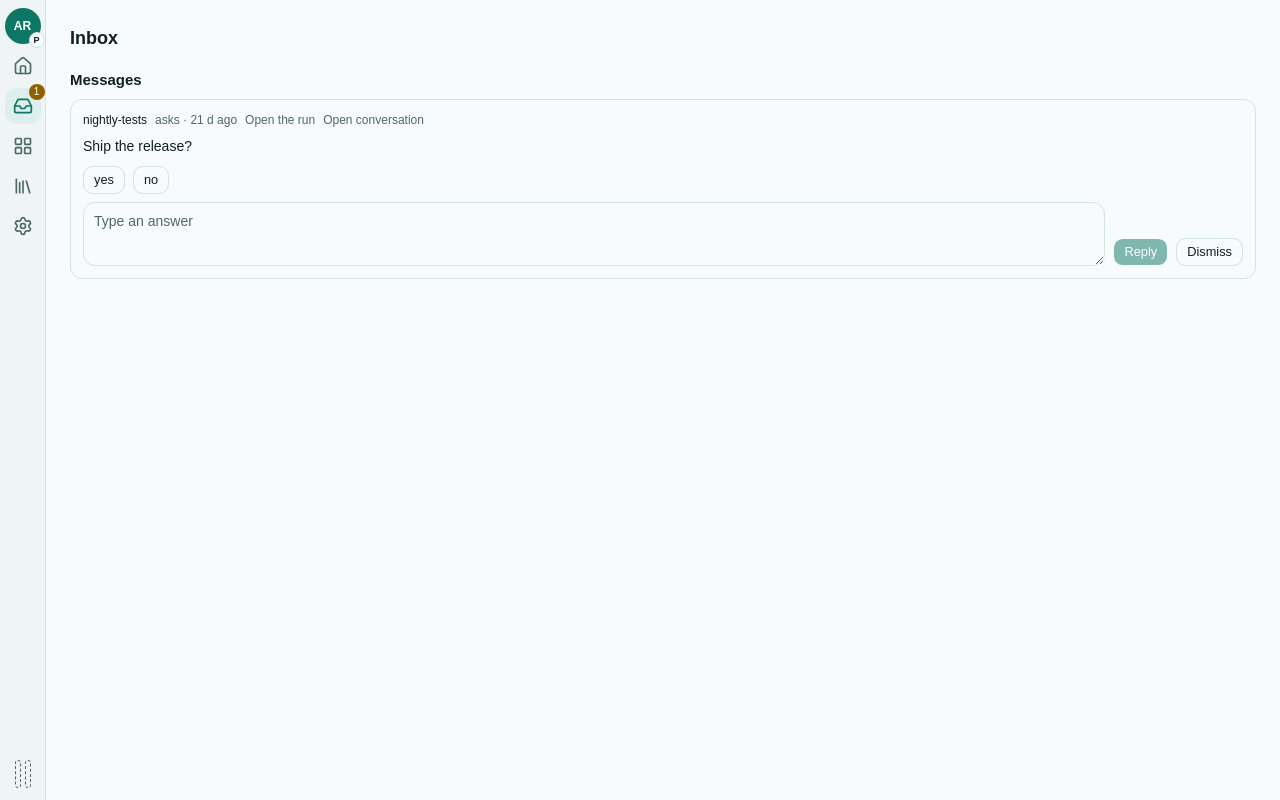
the Inbox's Open conversation › opens the conversation a question of the current topic is in
The image size is (1280, 800).
Step 1. Click the link "Open conversation" → click(374, 120), box left=323, top=112, right=424, bottom=128
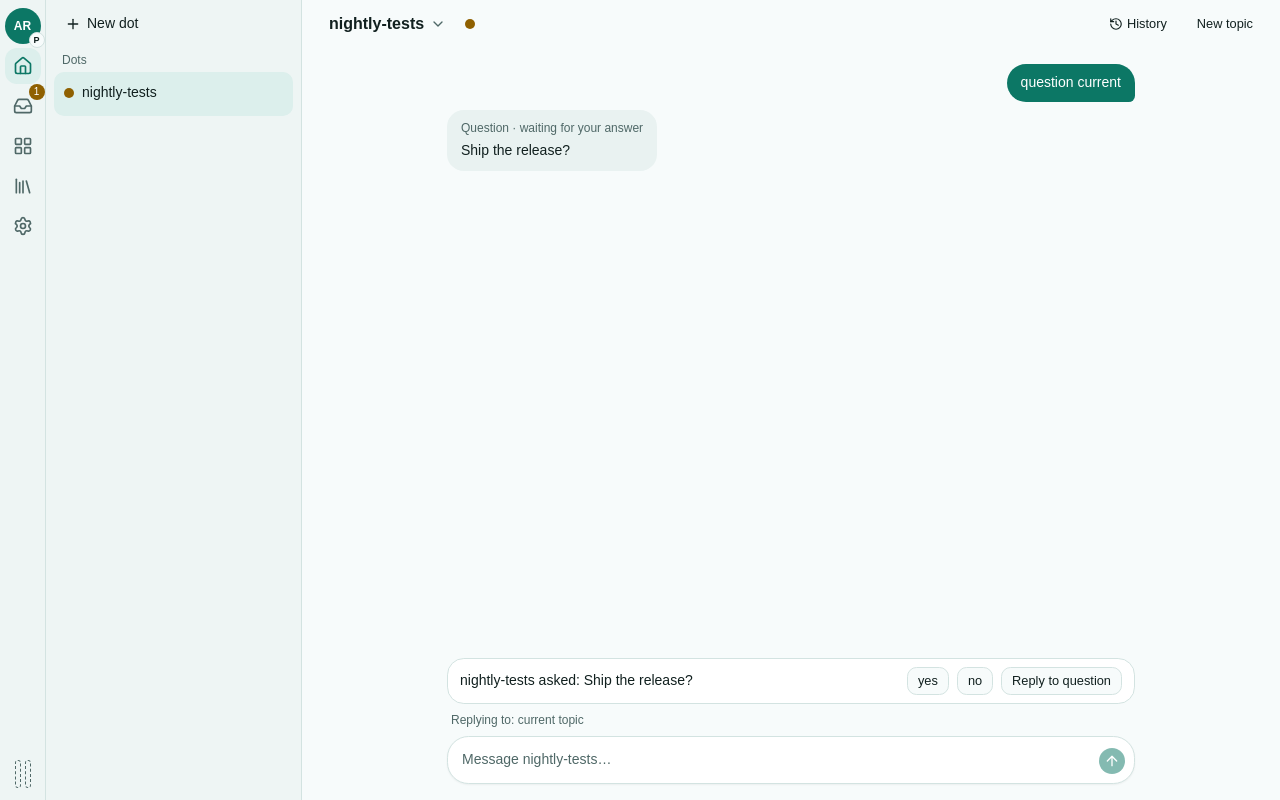
Now the element named "Open question" shows "Ship the release?", box left=584, top=672, right=693, bottom=688
